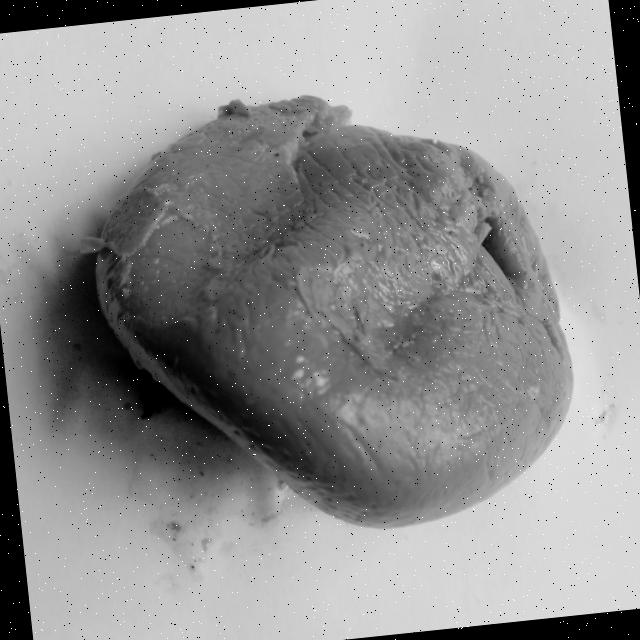Rotten: (74, 62, 588, 565)
